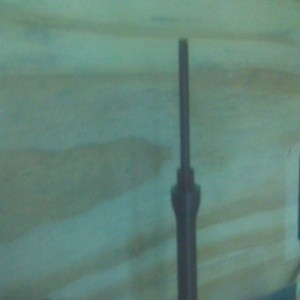obeng: (169, 37, 202, 300)
